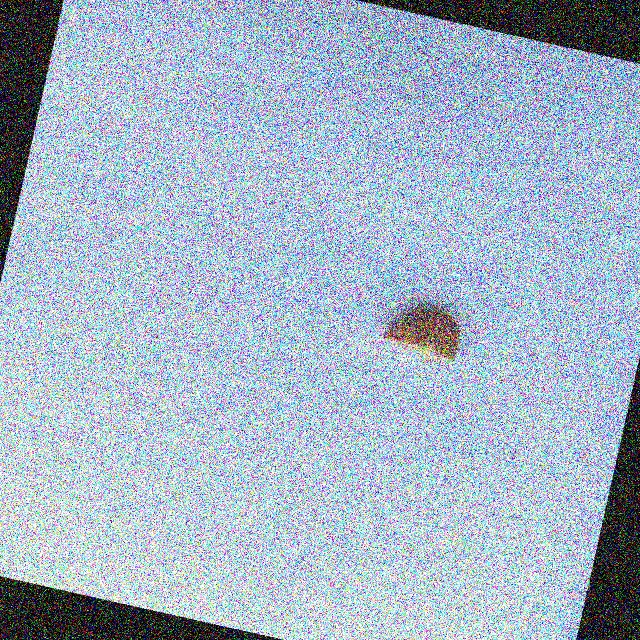grade4: (371, 292, 474, 373)
